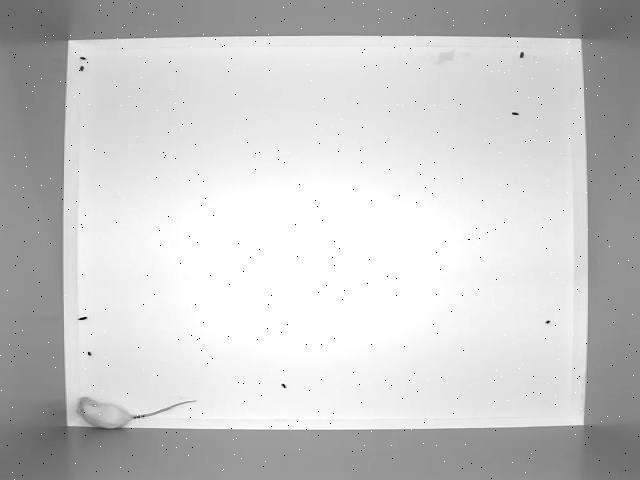Tikus: (72, 393, 202, 428)
